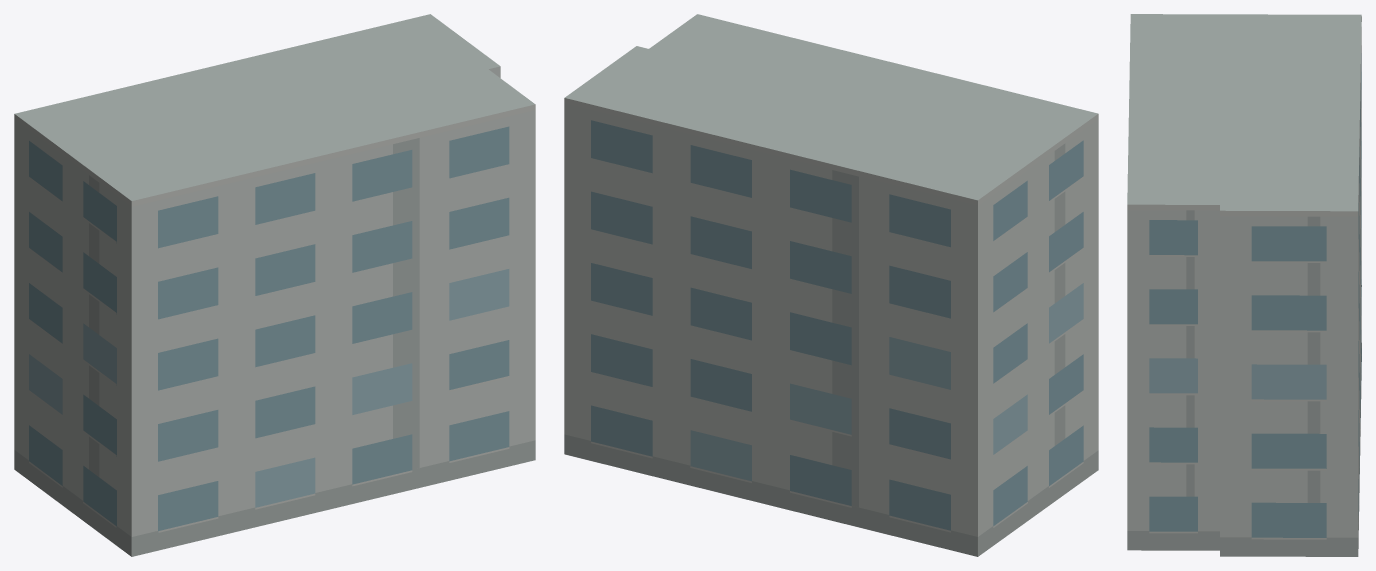
Rendered from survey-upis-32625372.glb.
The picture shows the model from 3 angles, left to right: view 1: azimuth 30°, elevation 25°; view 2: azimuth 150°, elevation 25°; view 3: azimuth 270°, elevation 25°; orthographic projection. The views are drawn at different scales.
Visible parts, largest first — view 1: survey-upis-32625372.tmp; view 2: survey-upis-32625372.tmp; view 3: survey-upis-32625372.tmp.
Part boxes in pixels (x1=…): survey-upis-32625372.tmp: x1=14, y1=14, x2=535, y2=556; survey-upis-32625372.tmp: x1=564, y1=14, x2=1098, y2=556; survey-upis-32625372.tmp: x1=1127, y1=14, x2=1361, y2=556.
Bounding box in the file's own units: 18.67 × 15.25 × 9.38.
